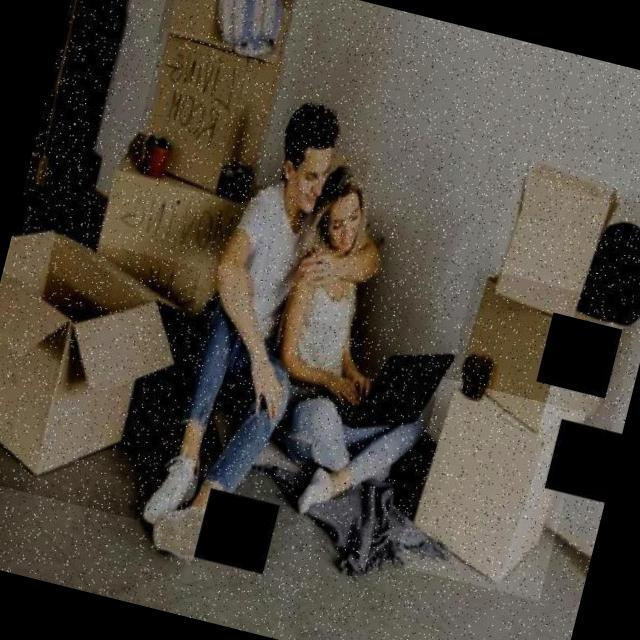box: (0, 222, 199, 520), (40, 140, 247, 426), (394, 378, 585, 600), (438, 267, 640, 463), (470, 142, 632, 368), (128, 28, 288, 200), (155, 0, 300, 73)
